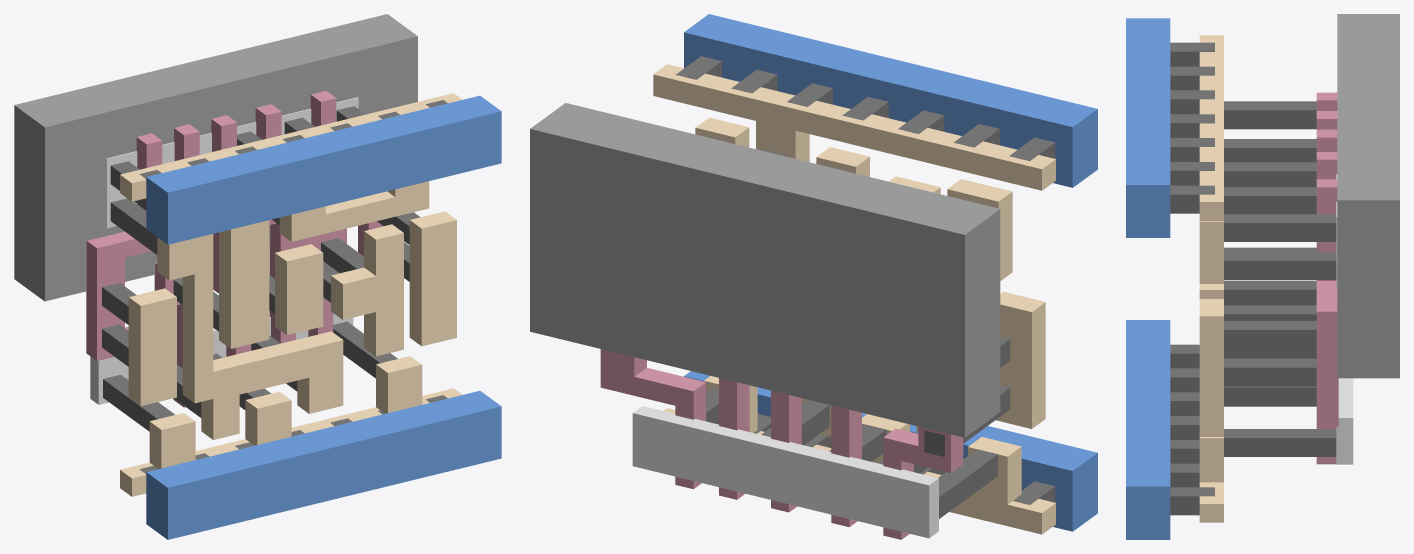
File: sky130_fd_sc_hd__a2111oi_0.gds.gltf
3 views of the same model, side by side, from view 1: azimuth 30°, elevation 25°; view 2: azimuth 150°, elevation 25°; view 3: azimuth 270°, elevation 25° (orthographic). The views are drawn at different scales.
Parts seen in each view (by area): view 1: sky130_fd_sc_hd__a2111oi_0_li1, sky130_fd_sc_hd__a2111oi_0_met1, sky130_fd_sc_hd__a2111oi_0_nwell, sky130_fd_sc_hd__a2111oi_0_poly, sky130_fd_sc_hd__a2111oi_0_licon, sky130_fd_sc_hd__a2111oi_0_diff, sky130_fd_sc_hd__a2111oi_0_mcon; view 2: sky130_fd_sc_hd__a2111oi_0_nwell, sky130_fd_sc_hd__a2111oi_0_li1, sky130_fd_sc_hd__a2111oi_0_met1, sky130_fd_sc_hd__a2111oi_0_diff, sky130_fd_sc_hd__a2111oi_0_poly, sky130_fd_sc_hd__a2111oi_0_mcon, sky130_fd_sc_hd__a2111oi_0_licon; view 3: sky130_fd_sc_hd__a2111oi_0_licon, sky130_fd_sc_hd__a2111oi_0_nwell, sky130_fd_sc_hd__a2111oi_0_met1, sky130_fd_sc_hd__a2111oi_0_mcon, sky130_fd_sc_hd__a2111oi_0_li1, sky130_fd_sc_hd__a2111oi_0_poly, sky130_fd_sc_hd__a2111oi_0_diff.
Boxes of the visible parts, left/top/right/bottom form: sky130_fd_sc_hd__a2111oi_0_li1: left=120, top=93, right=462, bottom=496; sky130_fd_sc_hd__a2111oi_0_met1: left=146, top=95, right=501, bottom=539; sky130_fd_sc_hd__a2111oi_0_nwell: left=14, top=14, right=417, bottom=301; sky130_fd_sc_hd__a2111oi_0_poly: left=86, top=91, right=383, bottom=407; sky130_fd_sc_hd__a2111oi_0_licon: left=102, top=106, right=420, bottom=431; sky130_fd_sc_hd__a2111oi_0_diff: left=90, top=97, right=358, bottom=404; sky130_fd_sc_hd__a2111oi_0_mcon: left=139, top=100, right=447, bottom=473; sky130_fd_sc_hd__a2111oi_0_nwell: left=530, top=103, right=1000, bottom=437; sky130_fd_sc_hd__a2111oi_0_li1: left=653, top=64, right=1055, bottom=534; sky130_fd_sc_hd__a2111oi_0_met1: left=684, top=14, right=1097, bottom=531; sky130_fd_sc_hd__a2111oi_0_diff: left=632, top=406, right=938, bottom=538; sky130_fd_sc_hd__a2111oi_0_poly: left=600, top=349, right=963, bottom=539; sky130_fd_sc_hd__a2111oi_0_mcon: left=676, top=56, right=1055, bottom=504; sky130_fd_sc_hd__a2111oi_0_licon: left=705, top=136, right=1010, bottom=518; sky130_fd_sc_hd__a2111oi_0_licon: left=1224, top=101, right=1336, bottom=456; sky130_fd_sc_hd__a2111oi_0_nwell: left=1337, top=14, right=1399, bottom=378; sky130_fd_sc_hd__a2111oi_0_met1: left=1126, top=18, right=1170, bottom=539; sky130_fd_sc_hd__a2111oi_0_mcon: left=1170, top=42, right=1214, bottom=515; sky130_fd_sc_hd__a2111oi_0_li1: left=1199, top=35, right=1223, bottom=522; sky130_fd_sc_hd__a2111oi_0_poly: left=1316, top=92, right=1338, bottom=464; sky130_fd_sc_hd__a2111oi_0_diff: left=1336, top=91, right=1353, bottom=464.
Bounding box in the file's own units: 3.6 × 3.2 × 2.24.
